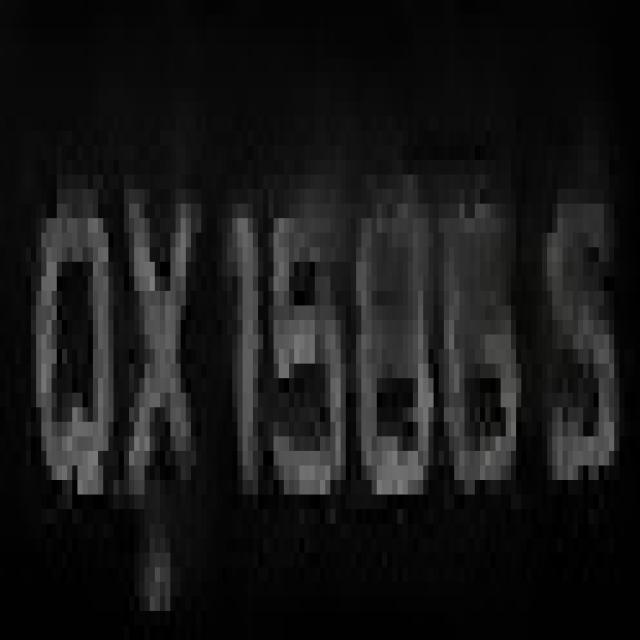1: (216, 102, 274, 538)
5: (258, 102, 346, 553)
6: (434, 131, 526, 538)
8: (346, 131, 444, 538)
Q: (31, 189, 124, 524)
S: (526, 116, 635, 524)
X: (108, 116, 206, 524)
